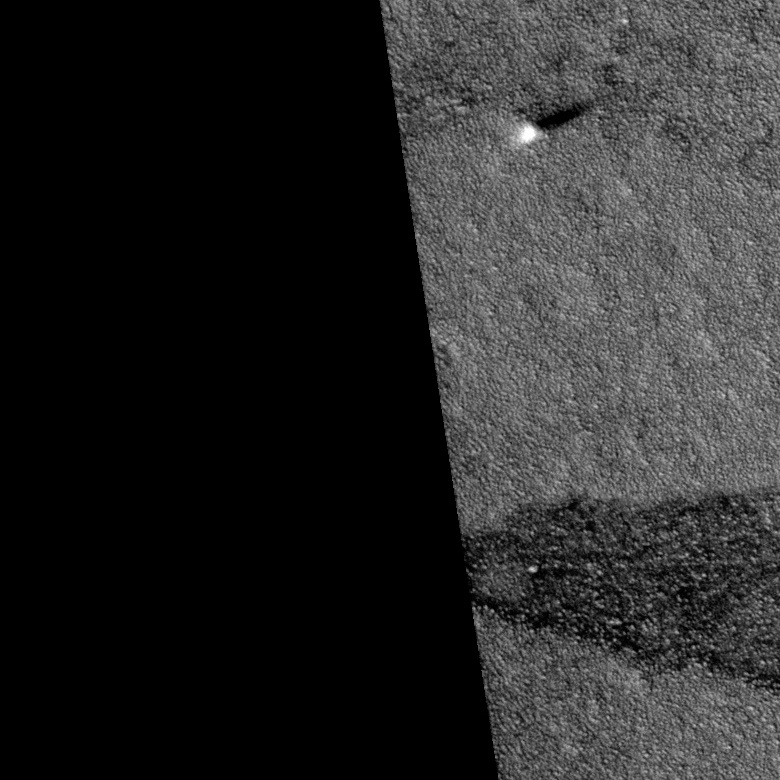dust_devil: (518, 96, 596, 145)
